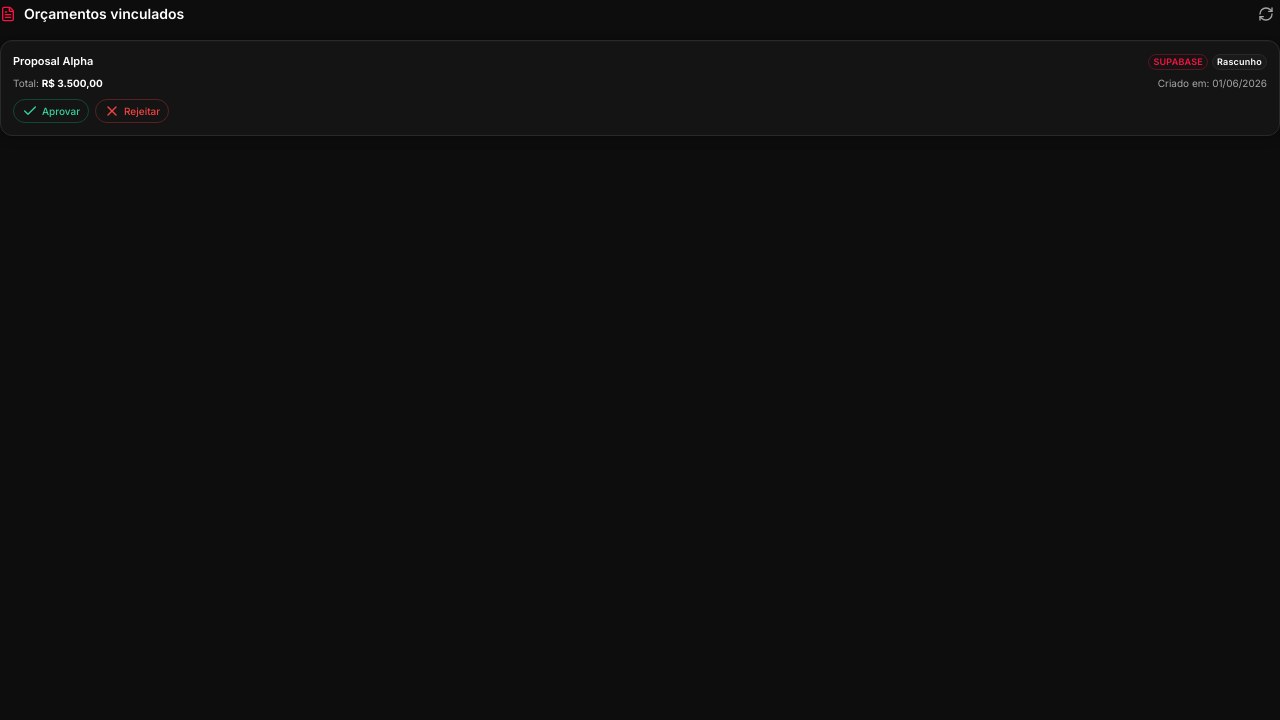
Test: LinkedQuotesSection · item 7 (Fatia 10) — comparação de status corrigida › sem nenhuma flag setada (default pós-flip): Aprovar já abre o diálogo de confirmação
Click the button "Aprovar".
click(51, 111)  # box [13,99,89,123]
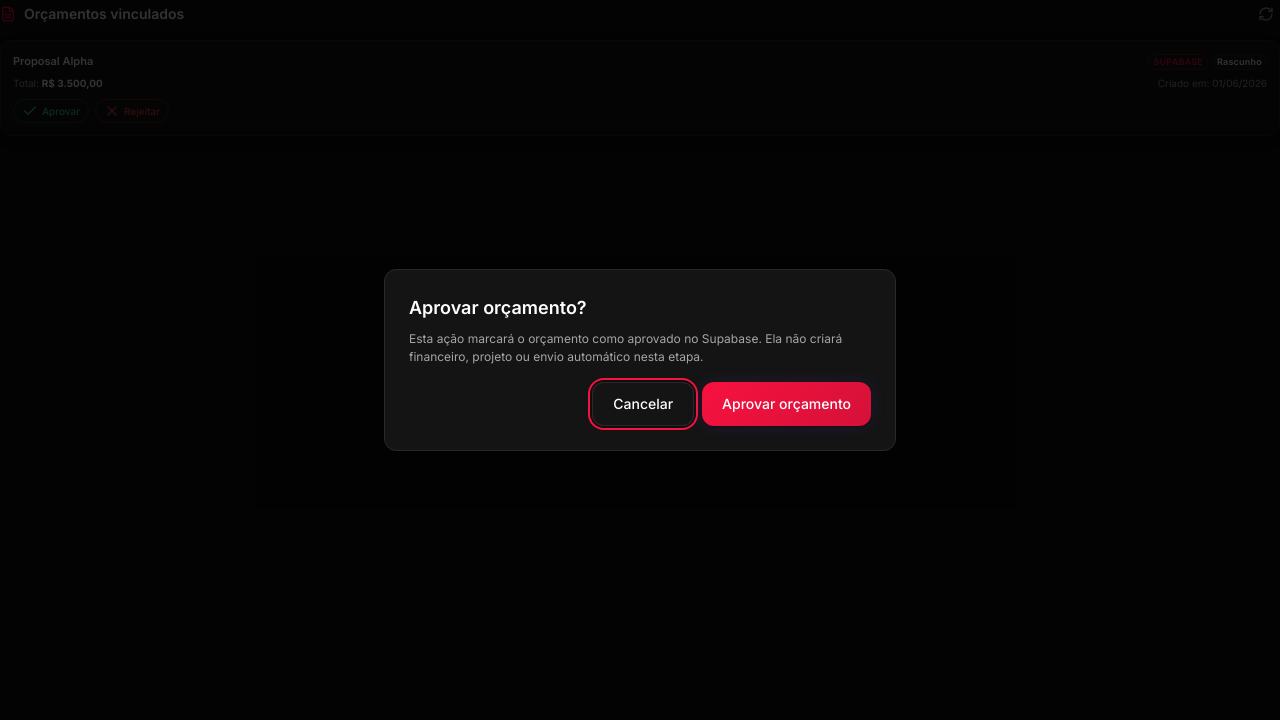
Now the button "Aprovar orçamento" is shown, box [702,382,871,426]
